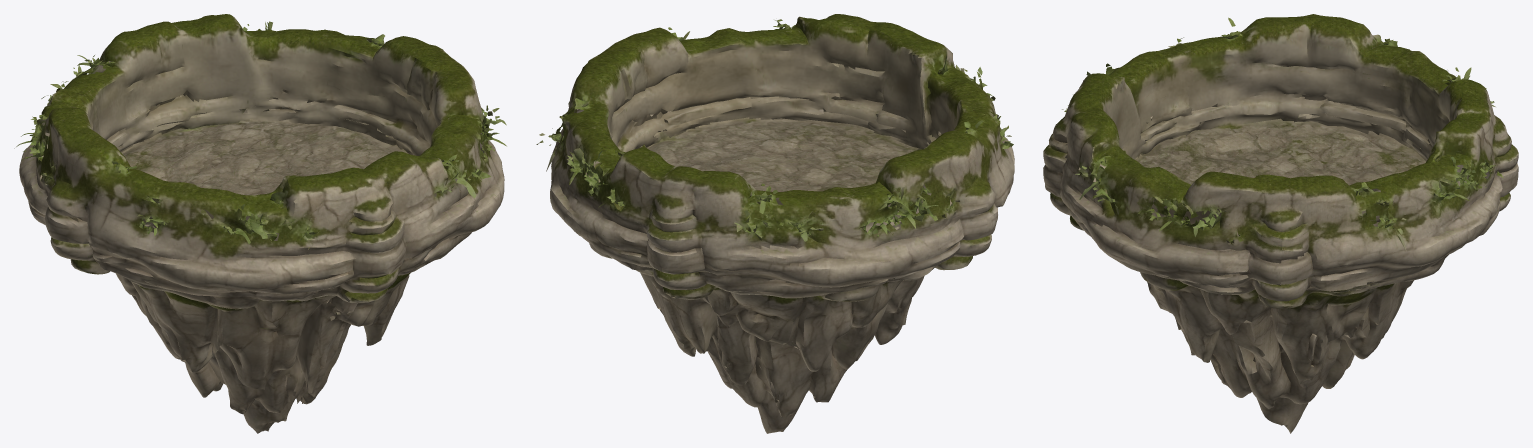
The model's file is cloudreach_high_perches_island_shell.glb.
The picture shows the model from 3 angles, left to right: view 1: azimuth 30°, elevation 25°; view 2: azimuth 150°, elevation 25°; view 3: azimuth 270°, elevation 25°; orthographic projection. The views are drawn at different scales.
Parts seen in each view (by area): view 1: Mesh_0; view 2: Mesh_0; view 3: Mesh_0.
Part boxes in pixels (x1,y1,x2,y2): Mesh_0: (14, 14, 506, 433); Mesh_0: (536, 14, 1014, 433); Mesh_0: (1043, 14, 1518, 433).
Size of the model in its own units: 1.88 by 1.43 by 1.87.
Materials: 1 (1 with a texture image).
